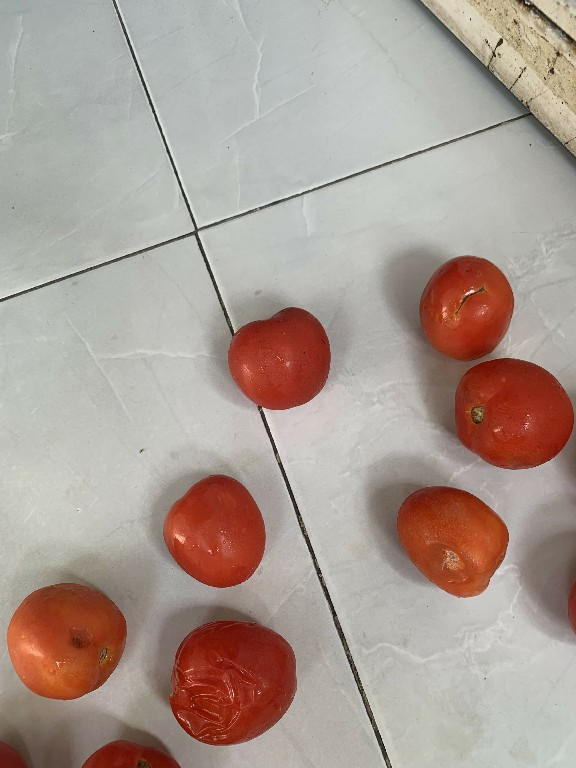NG: (165, 617, 308, 750), (8, 579, 137, 707), (392, 477, 514, 609), (418, 247, 522, 365)
OK: (453, 347, 576, 477), (214, 301, 342, 408), (159, 468, 269, 592)
